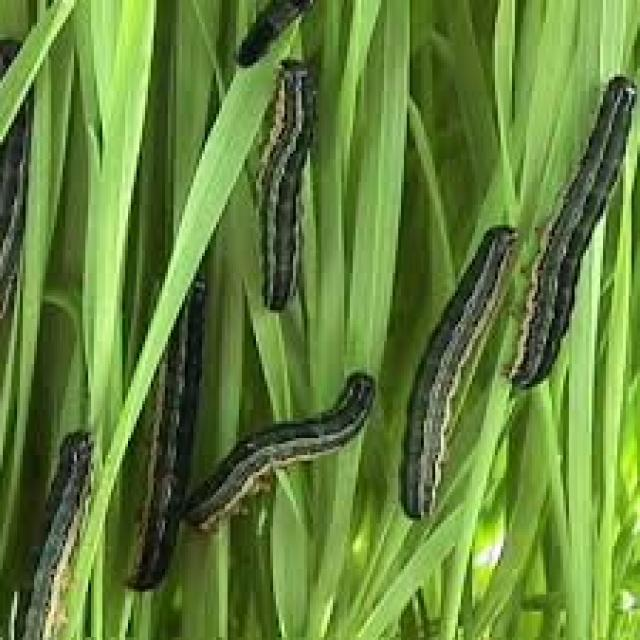armyworm: (518, 73, 640, 401), (396, 223, 523, 528), (187, 369, 388, 549), (115, 278, 217, 596), (252, 60, 343, 314), (9, 422, 107, 640), (1, 34, 41, 343), (224, 1, 321, 69)
